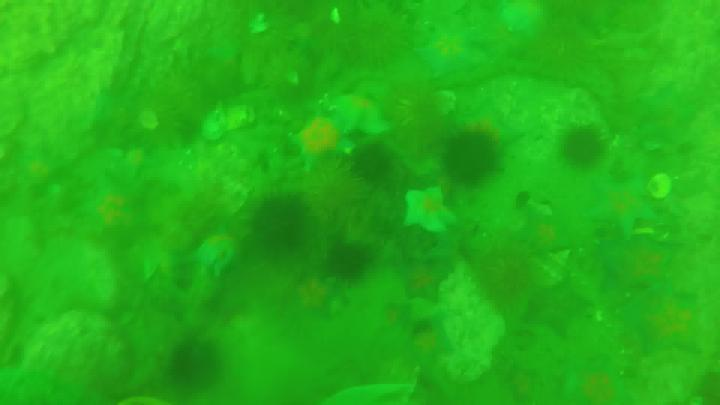echinus: (248, 194, 302, 259), (446, 126, 496, 189), (170, 334, 223, 389), (565, 130, 607, 167), (326, 246, 371, 278), (358, 142, 393, 176)
holothurian: (314, 176, 401, 231)
scallop: (649, 171, 675, 200), (138, 111, 159, 131)
starfish: (576, 175, 666, 234), (408, 22, 491, 79), (287, 115, 367, 170), (520, 280, 588, 336), (615, 280, 665, 350), (334, 85, 392, 144), (399, 191, 457, 235)
